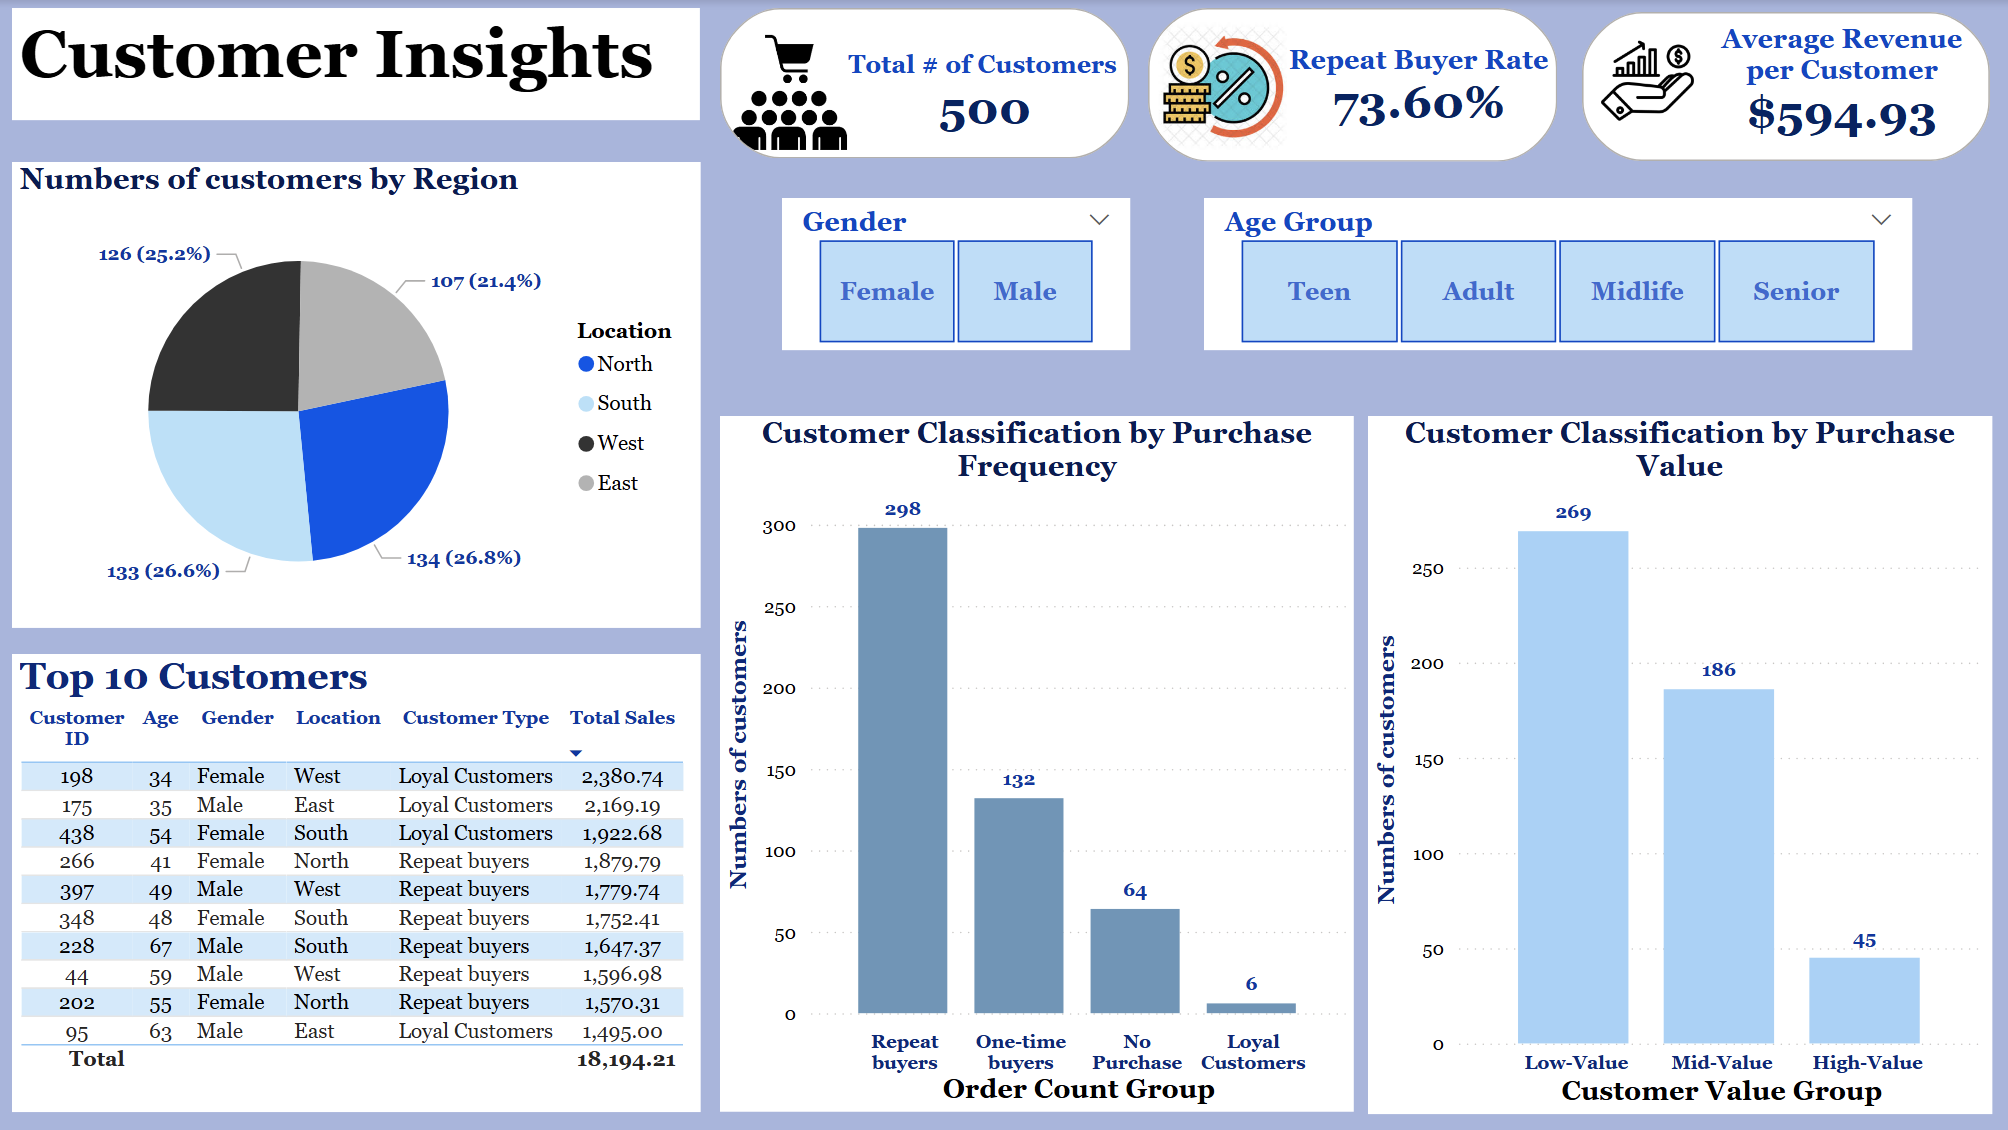

This screenshot's page, from the dashboard's own definition file:
{"tool":"powerbi","page":{"name":"Customer Insights","canvas":[1280,720],"ordinal":1},"visuals":[{"type":"textbox","box":[7.1,5.7,438.6,71.4],"z":0},{"type":"pieChart","title":"Numbers of customers by Region","fields":{"Category":["Customers.Location"],"Y":["Count(Customers.CustomerID)"]},"box":[7.6,103,439.1,296.8],"z":1000},{"type":"clusteredColumnChart","title":"Customer Classification by Purchase Value","fields":{"Category":["Customers.Customer Value Group"],"Y":["Count(Customers.CustomerID)"]},"box":[872,265.2,397.8,444.9],"z":2000},{"type":"clusteredColumnChart","title":"Customer Classification by Purchase Frequency","fields":{"Category":["Customers.Order Count"],"Y":["Count(Customers.CustomerID)"]},"box":[459,265.2,404.1,443.7],"z":3000},{"type":"cardVisual","fields":{"Data":["Count(Customers.CustomerID)"]},"box":[459,5.1,261.4,96.9],"z":4000},{"type":"cardVisual","fields":{"Data":["Customers.Avg Revenue per Customer"]},"box":[1008.6,7.1,260,95.7],"z":5000},{"type":"cardVisual","fields":{"Data":["Customers.Repeat Buyer Rate (%)"]},"box":[731.8,5.1,261.4,98.2],"z":6000},{"type":"tableEx","title":"Top 10 Customers","fields":{"Values":["Customers.CustomerID","Customers.Age","Customers.Gender","Customers.Location","Customers.Order Count Group","Sales.Total Sales"]},"box":[7.6,416.4,439.1,292.2],"z":7000},{"type":"slicer","fields":{"Values":["Customers.Gender"]},"box":[498.5,126.2,221.8,96.9],"z":8000},{"type":"slicer","fields":{"Values":["Customers.Age Group"]},"box":[767.5,126.2,451.3,96.9],"z":9000}]}

Visuals, with their boxes in screenshot pixels (x1, y1, x2, y2), scaled from the page's 1280x720 canvas onto the 2008x1130 screenshot:
textbox: (11,9,699,121)
"Numbers of customers by Region" pieChart: (12,162,701,627)
"Customer Classification by Purchase Value" clusteredColumnChart: (1368,416,1992,1114)
"Customer Classification by Purchase Frequency" clusteredColumnChart: (720,416,1354,1113)
cardVisual - Count(Customers.CustomerID): (720,8,1130,160)
cardVisual - Customers.Avg Revenue per Customer: (1582,11,1990,161)
cardVisual - Customers.Repeat Buyer Rate (%): (1148,8,1558,162)
"Top 10 Customers" tableEx: (12,654,701,1112)
slicer - Customers.Gender: (782,198,1130,350)
slicer - Customers.Age Group: (1204,198,1912,350)
